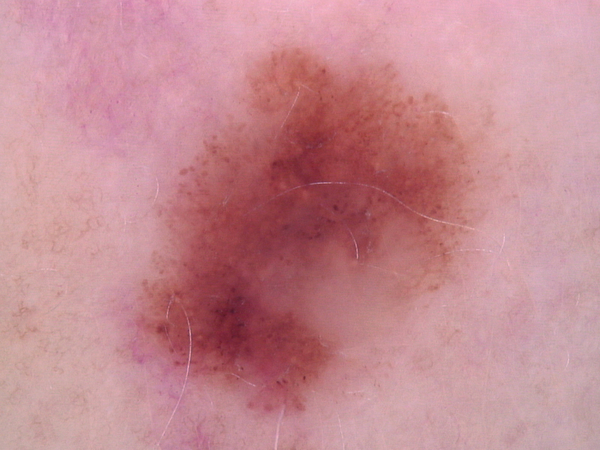Detected Lesion: (135, 40, 471, 415)
